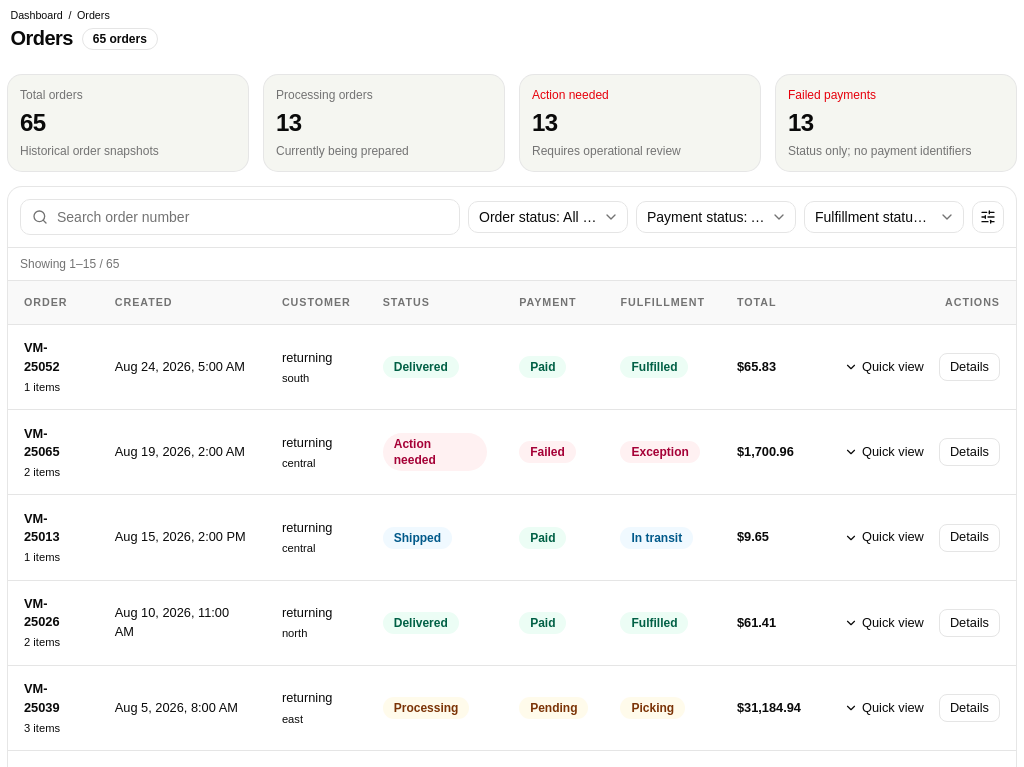
it: order data states › shows error ReturnStore state in an expanded order row
This screenshot has width=1024, height=767.
Click the button "Quick view" in the row of "VM-25052" at (884, 367), box 833,353 -> 935,381
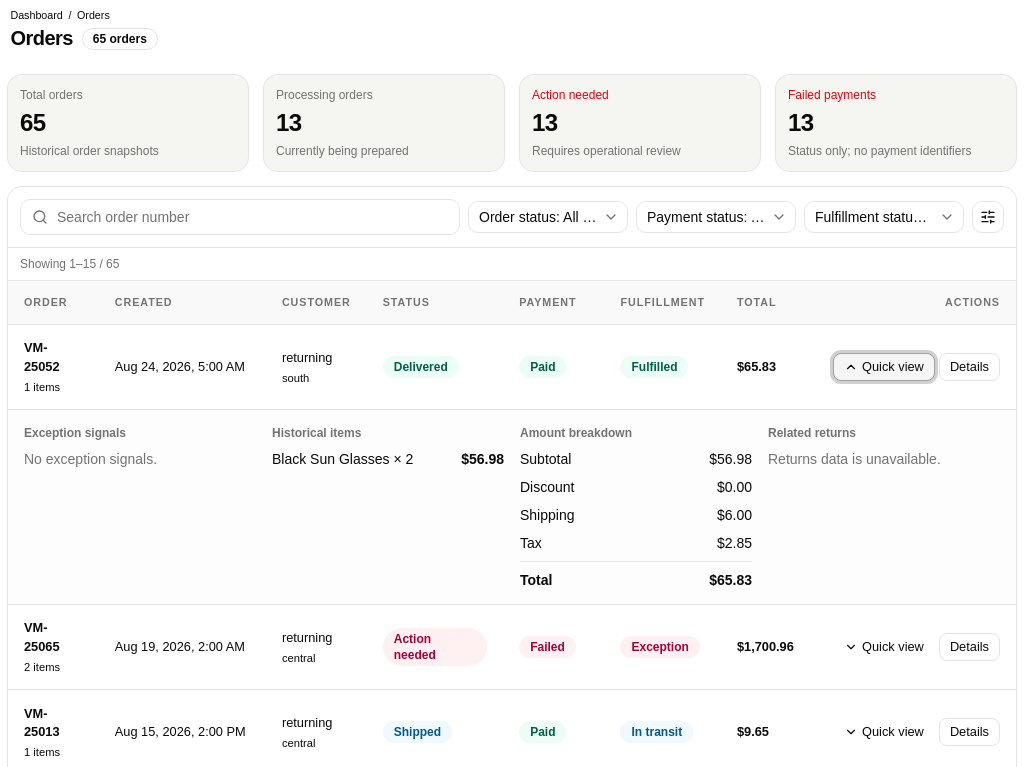
Check: the text "Returns data is unavailable." is shown, box 768,451 -> 941,467
